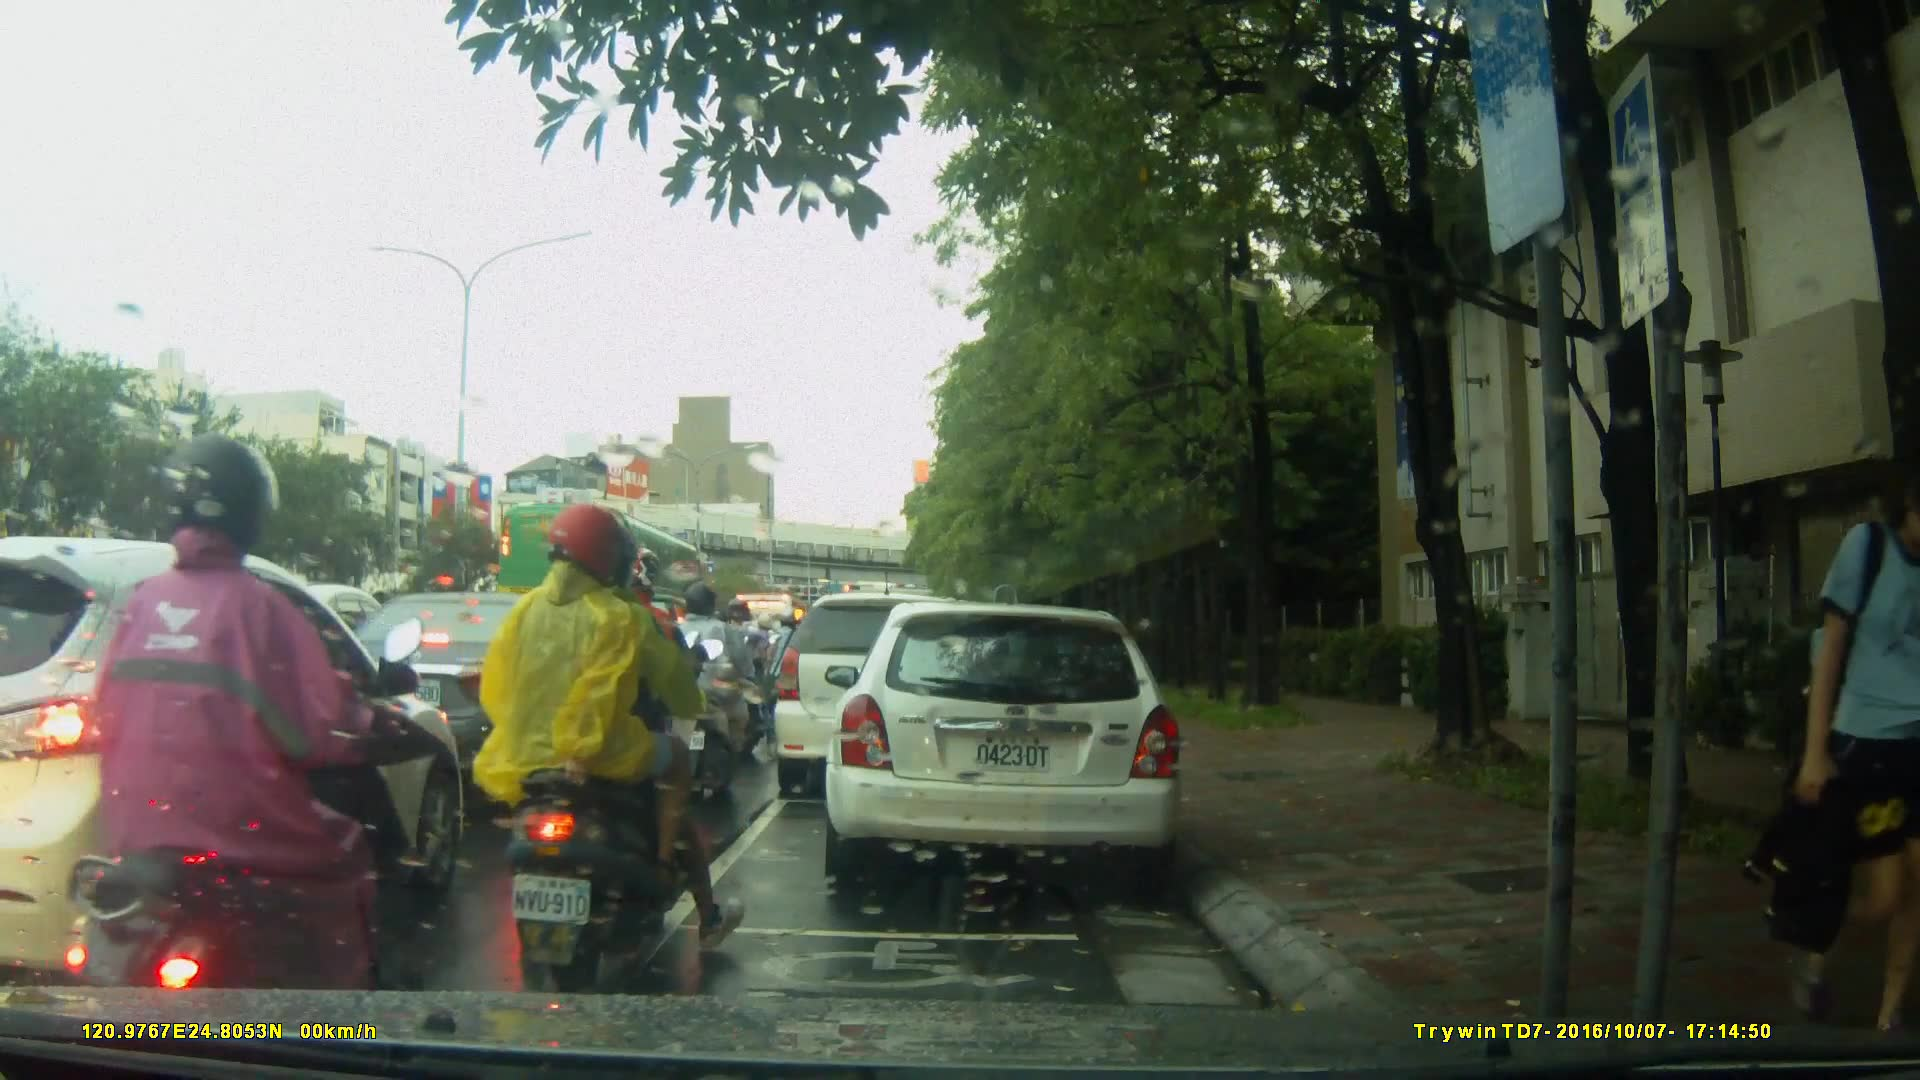pedestrian: (1767, 435, 1920, 1013)
rider: (67, 435, 441, 1064), (475, 506, 706, 985), (661, 585, 750, 797), (717, 593, 774, 757)
vehicle: (3, 534, 463, 988), (831, 592, 1196, 897), (319, 590, 629, 776), (770, 590, 999, 804), (495, 499, 709, 636)
